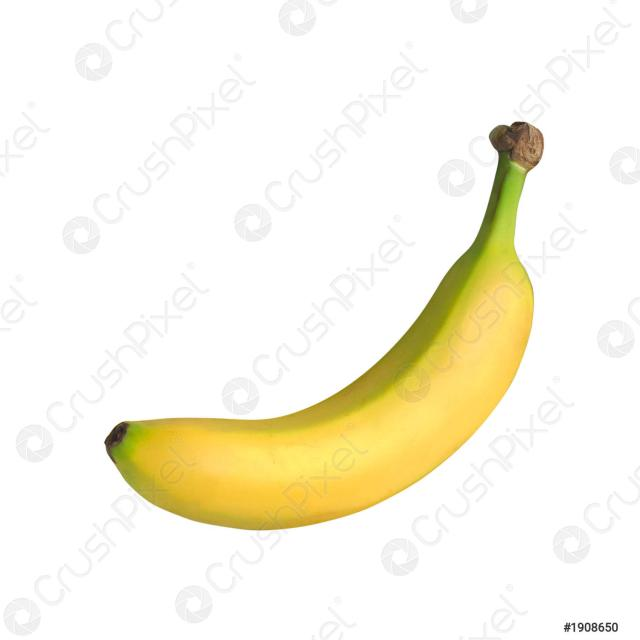non_orange: (101, 122, 544, 534)
